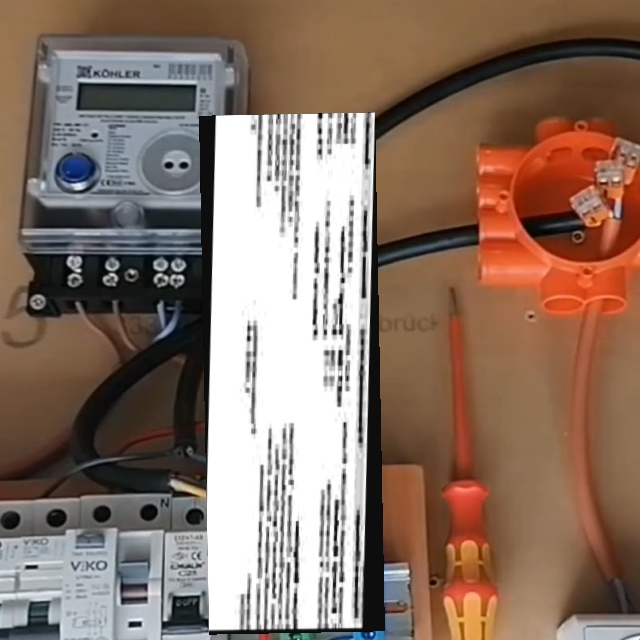electricity-bill: (199, 111, 385, 634)
